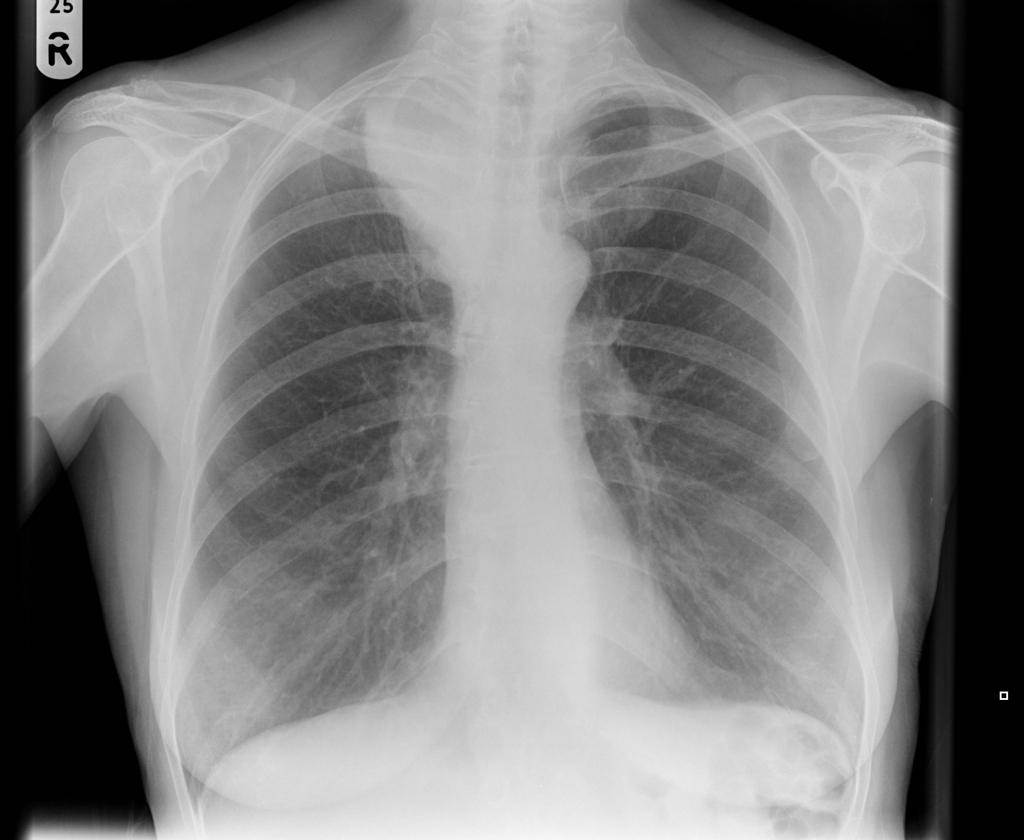cancer: (568, 259, 801, 605), (231, 267, 431, 632)
